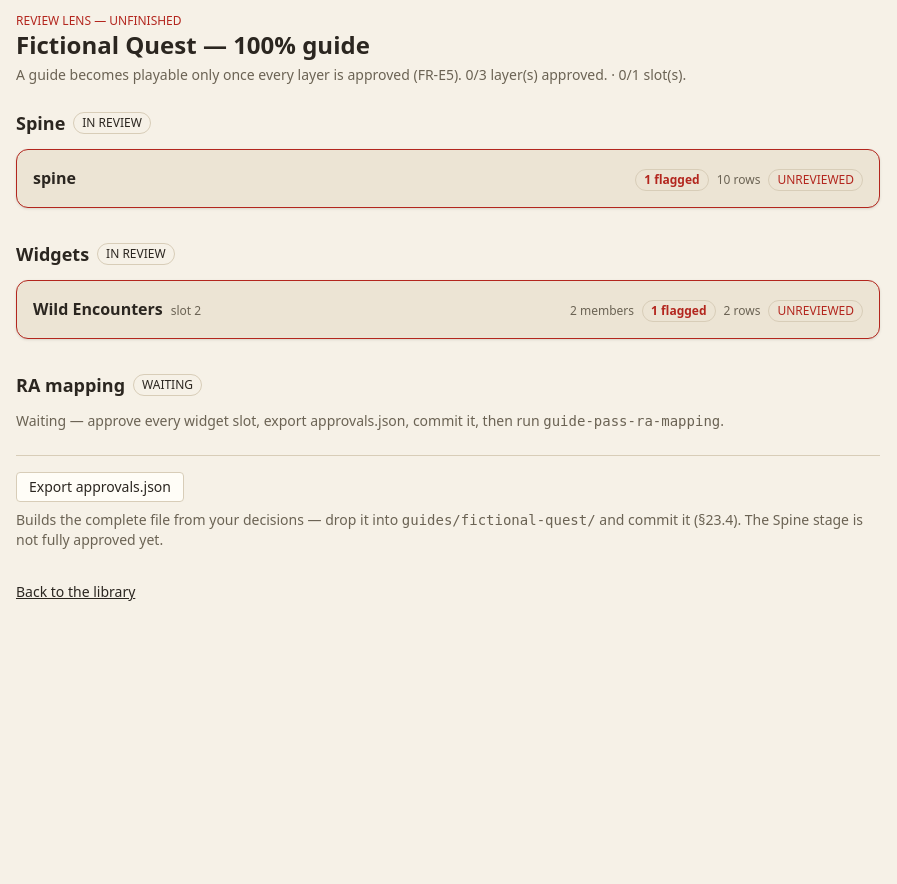
review lens — flagged rows (FR-E2/E3) › merges same-slot widgets into one card with per-member flagged rows
Step 1. Click the button "Wild Encounters" → (98, 309), box [33, 297, 863, 322]
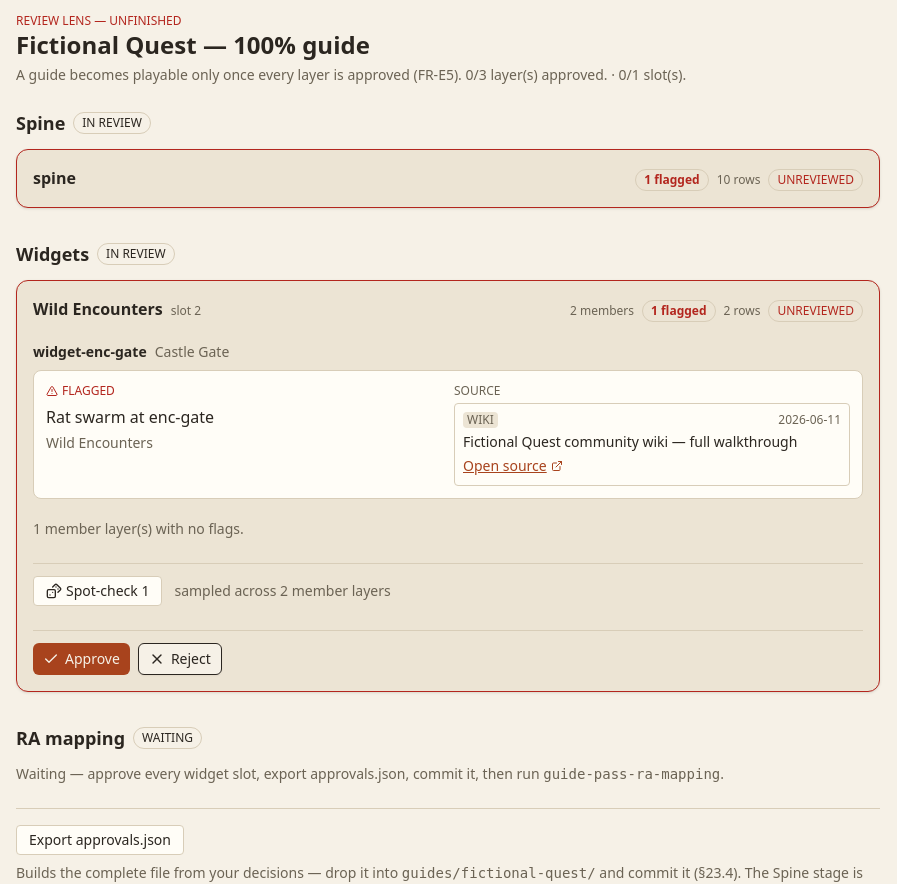
expect the text "Rat swarm at enc-gate" is shown: met, box [46, 406, 214, 428]
expect the text "Castle Gate" is shown: met, box [155, 342, 229, 361]
expect the text "1 member layer(s) with no flags." is shown: met, box [33, 519, 244, 538]
